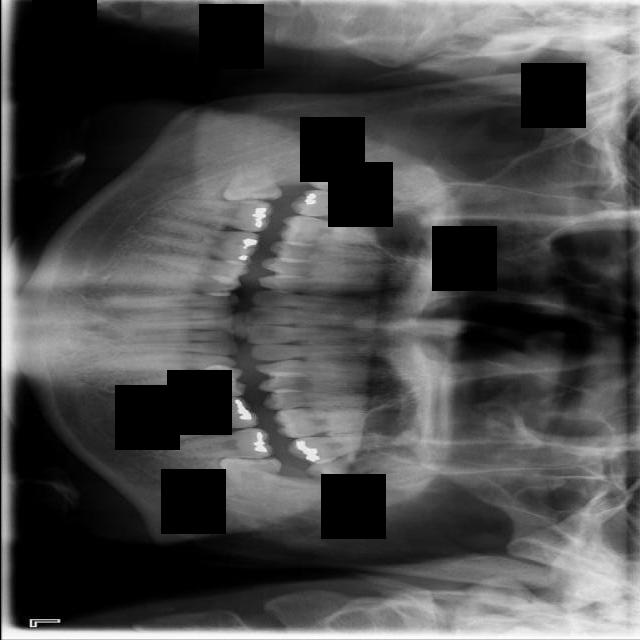3M ESPE Implant: (303, 160, 431, 218)
52: (216, 225, 262, 268), (288, 189, 349, 219), (285, 435, 343, 466), (228, 199, 275, 235), (227, 426, 275, 461), (212, 396, 257, 429)
73: (69, 602, 77, 610)
BioHorizons Implant: (285, 431, 416, 467)
BioLife Implant: (303, 434, 417, 492)
Biomet 3i Implant: (221, 455, 281, 500)
Blue Sky Bio Implant: (163, 428, 272, 460)
Caries: (293, 189, 422, 221)
Implant: (161, 197, 274, 234)
Keystone Dental Implant: (218, 157, 281, 205)
